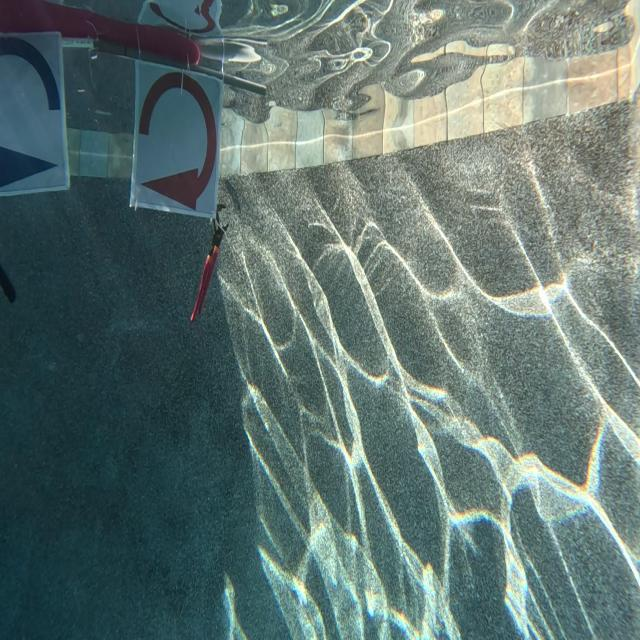blue_side: (0, 35, 64, 182)
red_side: (132, 61, 218, 217)
